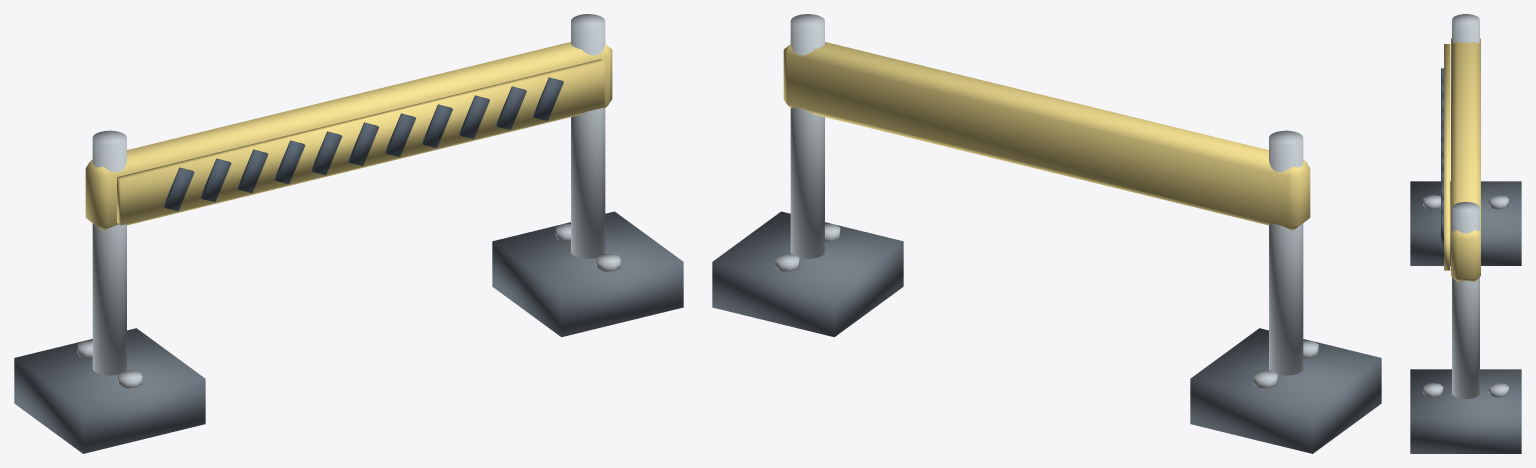
The model's file is safety_barrier_ultra.glb.
3 renders of one model, left to right at view 1: azimuth 30°, elevation 25°; view 2: azimuth 150°, elevation 25°; view 3: azimuth 270°, elevation 25°, orthographic. The views are drawn at different scales.
Parts seen in each view (by area): view 1: Base_dark, Detail_yellow, Rail_yellow, Rail_steel, Detail_black, Anchor_steel; view 2: Rail_yellow, Base_dark, Rail_steel, Anchor_steel; view 3: Base_dark, Rail_yellow, Rail_steel, Detail_yellow, Anchor_steel, Detail_black.
Boxes of the visible parts, x1,y1,x2,y2 form: Base_dark: [14, 211, 683, 453]; Detail_yellow: [117, 59, 604, 225]; Rail_yellow: [85, 42, 612, 230]; Rail_steel: [92, 14, 605, 375]; Detail_black: [163, 77, 563, 211]; Anchor_steel: [77, 223, 620, 388]; Rail_yellow: [783, 42, 1310, 230]; Base_dark: [712, 211, 1381, 453]; Rail_steel: [790, 14, 1303, 375]; Anchor_steel: [775, 223, 1318, 388]; Base_dark: [1410, 181, 1521, 453]; Rail_yellow: [1451, 38, 1480, 281]; Rail_steel: [1452, 14, 1479, 399]; Detail_yellow: [1444, 44, 1450, 270]; Anchor_steel: [1423, 195, 1508, 397]; Detail_black: [1441, 68, 1443, 246].
Bounding box in the file's own units: 2.21 × 0.97 × 0.44.
